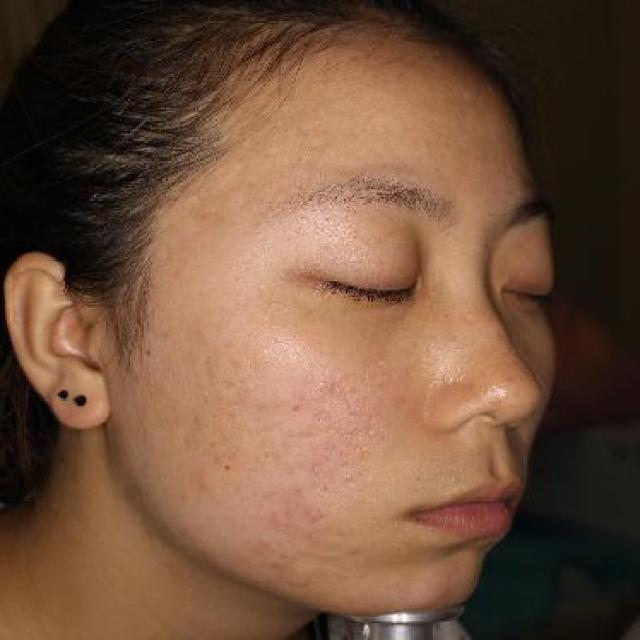dark spot: (257, 483, 325, 529), (178, 410, 221, 456), (178, 462, 219, 508), (312, 366, 349, 399), (185, 317, 217, 345), (236, 536, 272, 558), (276, 397, 313, 418)
